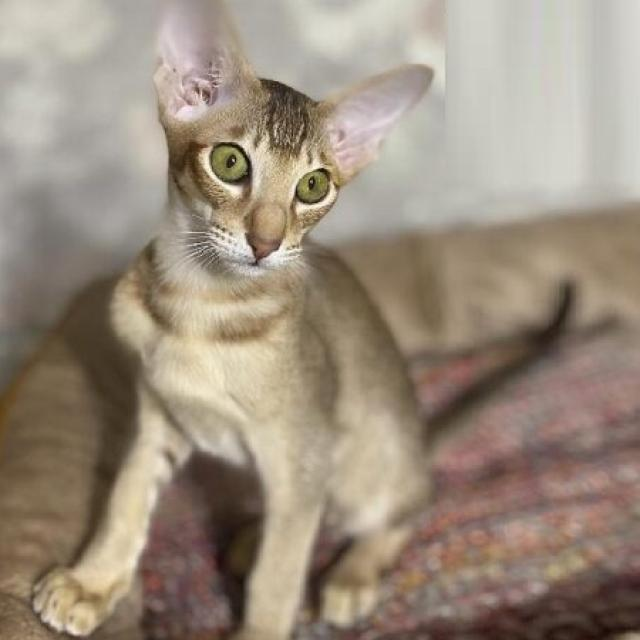Oriental: (23, 0, 441, 640)
